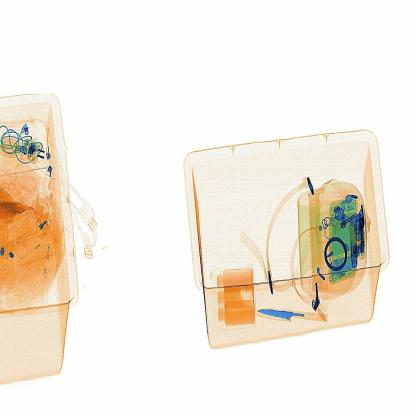wrench: (254, 304, 327, 326)
